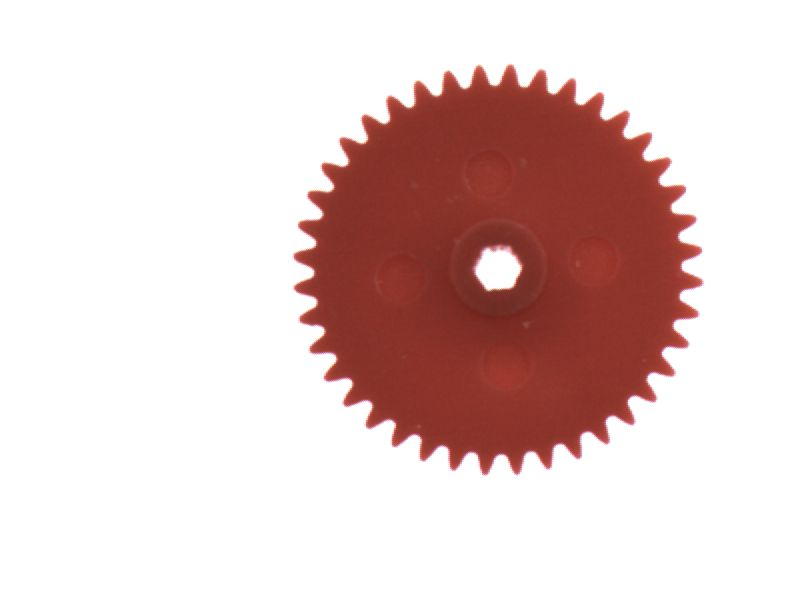good_product: (277, 56, 717, 488)
